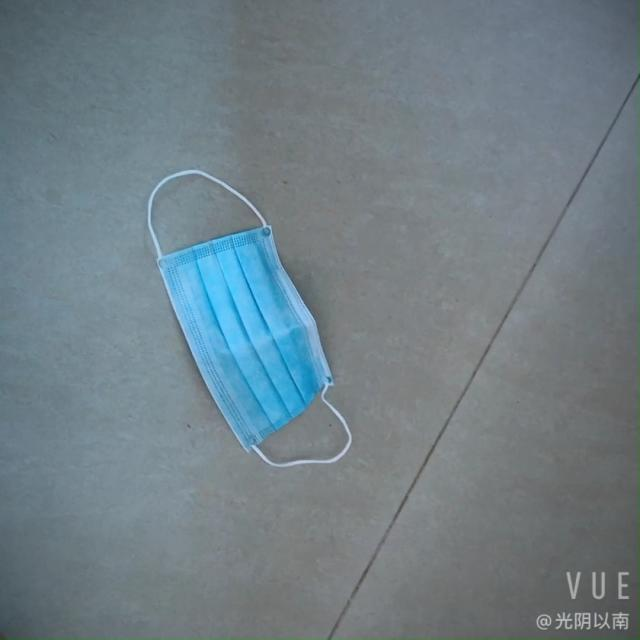non-organic waste: (149, 216, 327, 455)
